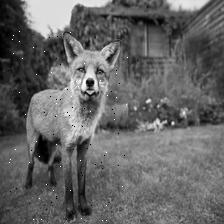fox: (8, 29, 128, 224)
